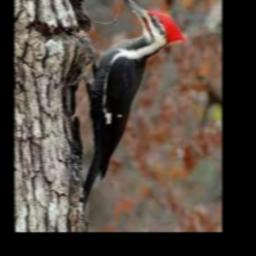Woodpecker: (82, 0, 187, 216)
